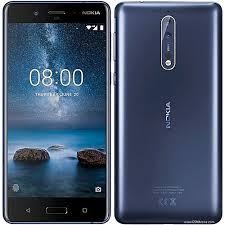nokia: (113, 1, 225, 225), (1, 1, 111, 225)
